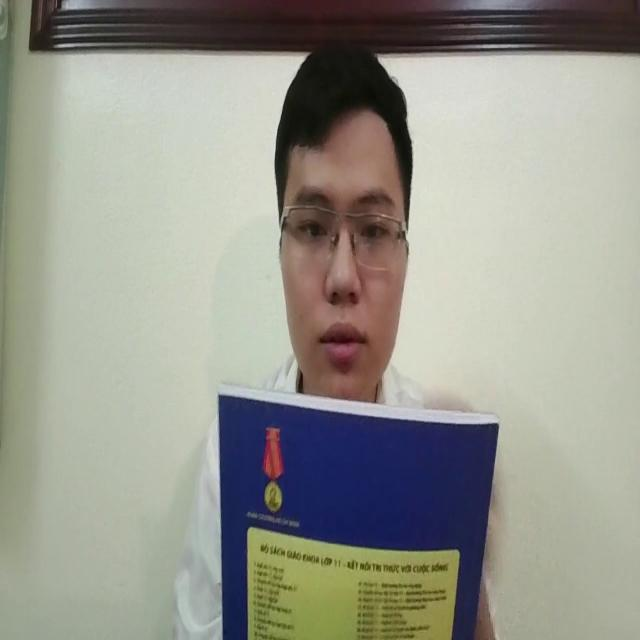book: (211, 369, 499, 640)
student: (269, 28, 415, 425)
